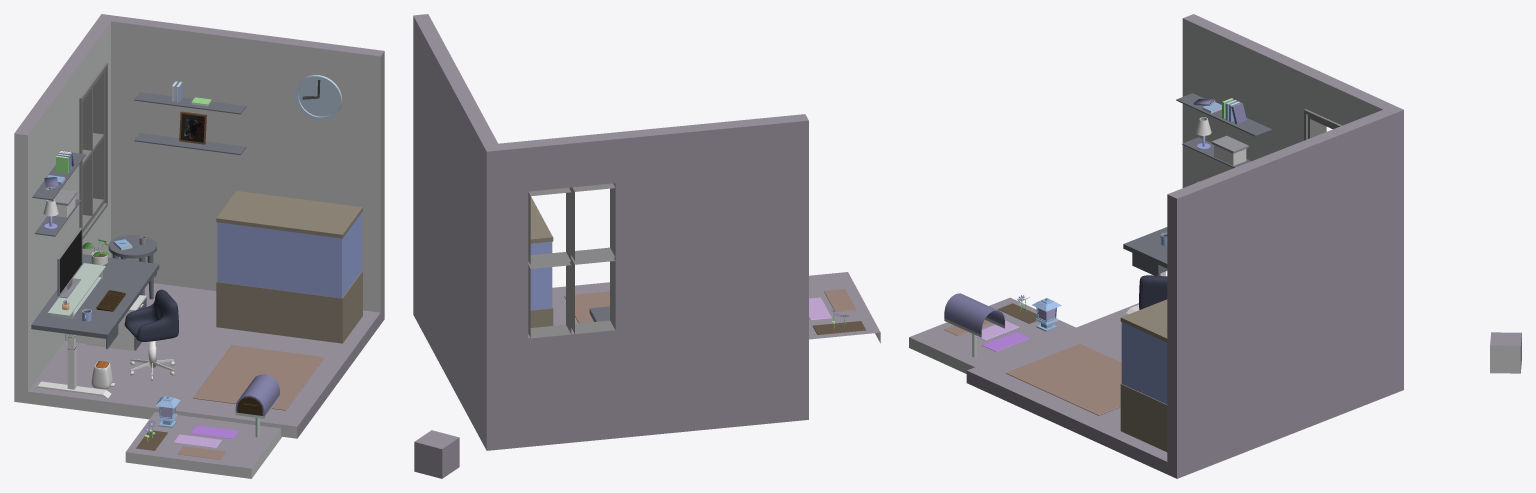
The model's file is room3.glb.
3 renders of one model, left to right at view 1: azimuth 30°, elevation 25°; view 2: azimuth 150°, elevation 25°; view 3: azimuth 270°, elevation 25°, orthographic. The views are drawn at different scales.
Visible parts, largest first — view 1: Body, Aquarium, Desks, Floor Items, Mini Floor, Shelves, Table Stuff, Chair, Clock, Mailbox, Computer, Lamp (+4 smaller); view 2: Body, Mini Floor, Aquarium, Cube, Floor Items, Dirt, FloorThird; view 3: Body, Aquarium, Floor Items, Mini Floor, Shelves, Mailbox, Desks, Cube, Chair, Lamp.
Boxes of the visible parts, x1,y1,x2,y2 form: Body: (14, 14, 384, 438); Aquarium: (216, 190, 362, 343); Desks: (31, 235, 159, 398); Floor Items: (87, 295, 324, 410); Mini Floor: (125, 412, 281, 478); Shelves: (32, 81, 246, 236); Table Stuff: (48, 236, 147, 321); Chair: (124, 289, 178, 341); Clock: (295, 75, 342, 120); Mailbox: (235, 374, 279, 437); Computer: (57, 227, 82, 298); Lamp: (155, 396, 180, 427); Body: (413, 14, 808, 450); Mini Floor: (809, 272, 880, 343); Aquarium: (530, 196, 553, 327); Cube: (414, 430, 459, 478); Floor Items: (564, 291, 609, 323); Dirt: (812, 321, 865, 334); FloorThird: (824, 289, 856, 311); Body: (966, 14, 1403, 478); Aquarium: (1120, 299, 1167, 451); Floor Items: (1006, 344, 1121, 415); Mini Floor: (909, 297, 1075, 373); Shelves: (1176, 93, 1271, 167); Mailbox: (944, 293, 1004, 357); Desks: (1123, 227, 1167, 313); Cube: (1490, 332, 1521, 373); Chair: (1139, 275, 1167, 309); Lamp: (1032, 298, 1061, 331).
Bounding box in the file's own units: 27.58 × 19.65 × 38.64.
43 materials, 1 textured.
